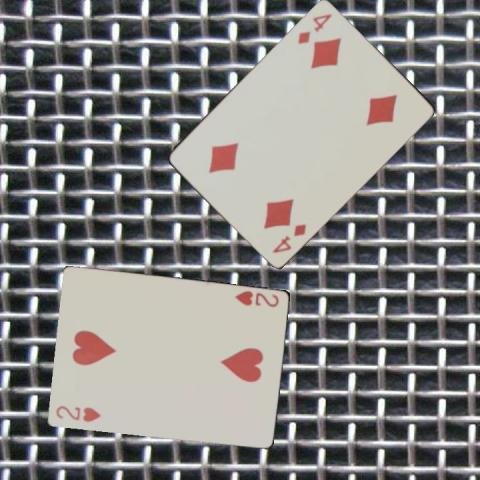2h: (233, 287, 281, 309), (53, 402, 103, 423)
4d: (294, 10, 333, 45), (269, 220, 308, 255)
